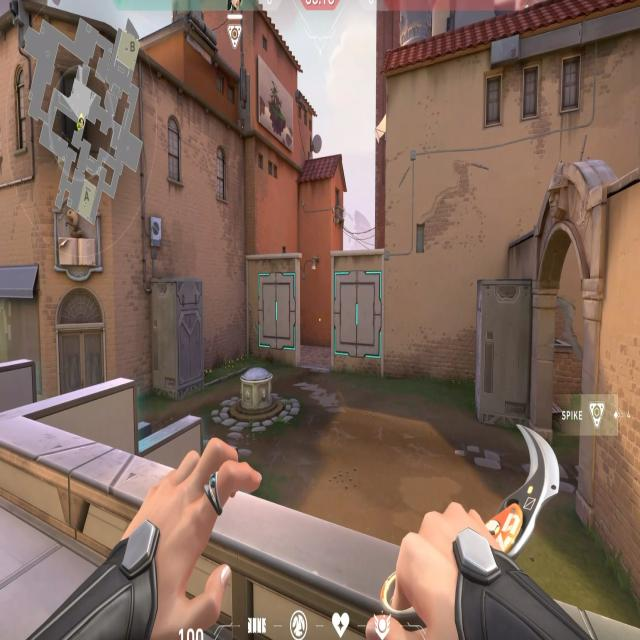Mid_Wall: (326, 246, 391, 386), (242, 243, 305, 372)
